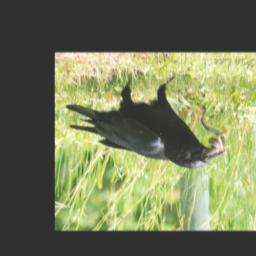Crow: (67, 75, 227, 169)
